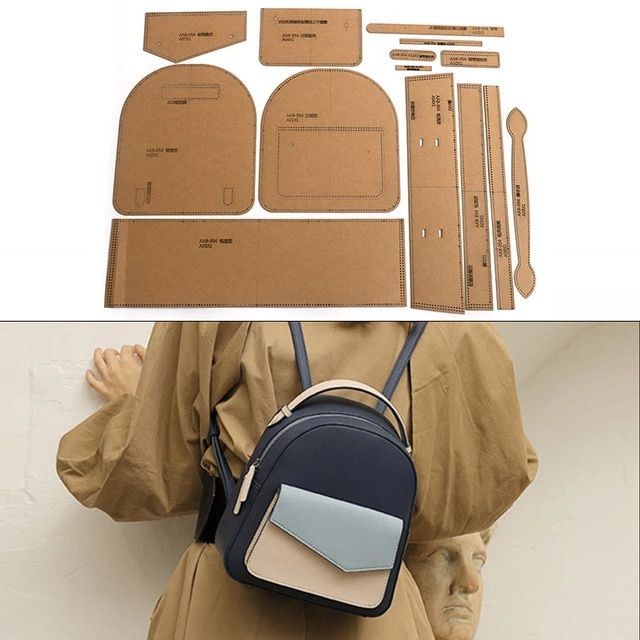cuero: (195, 320, 431, 619)
